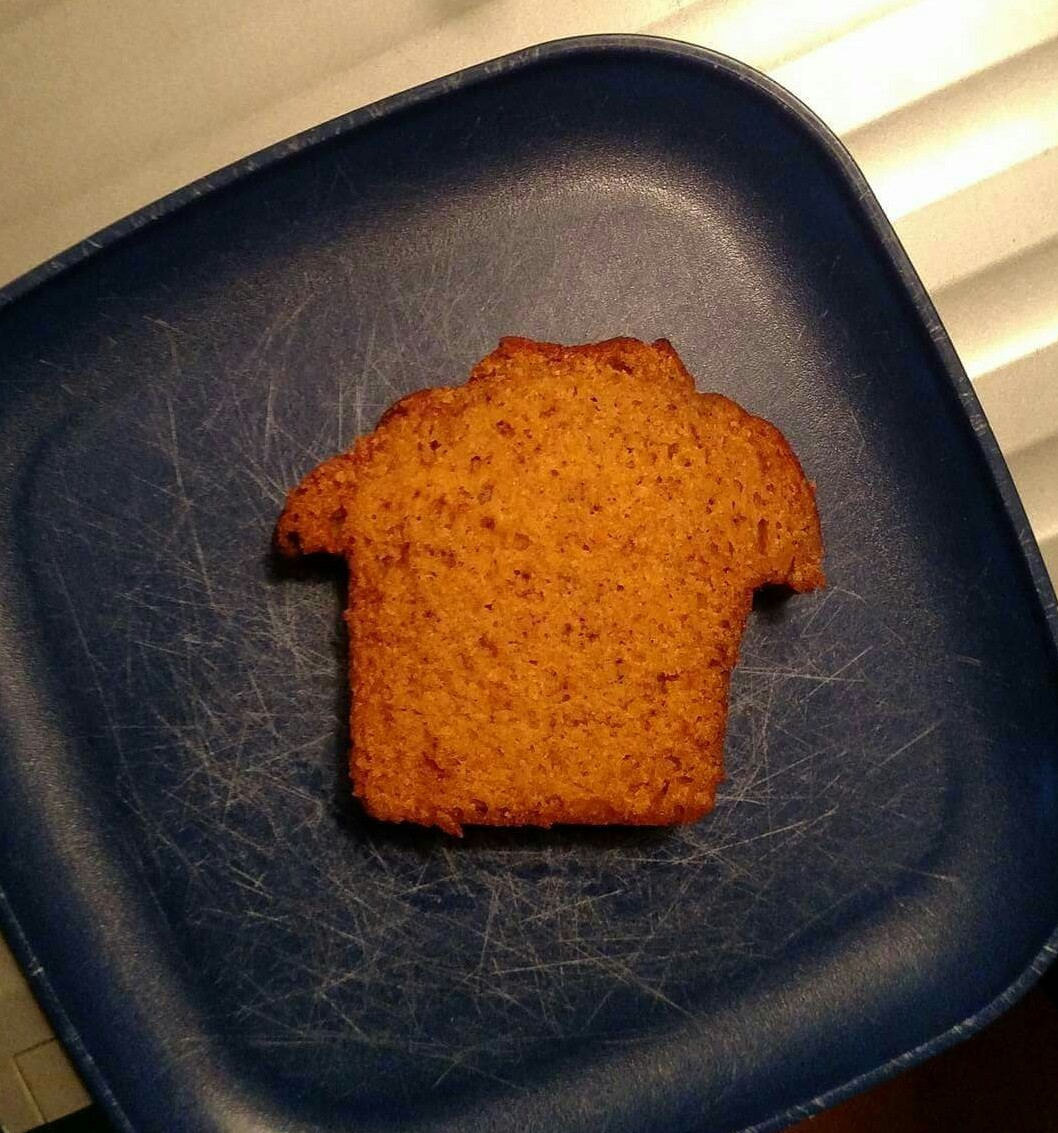slice of bread: (388, 385, 707, 820)
